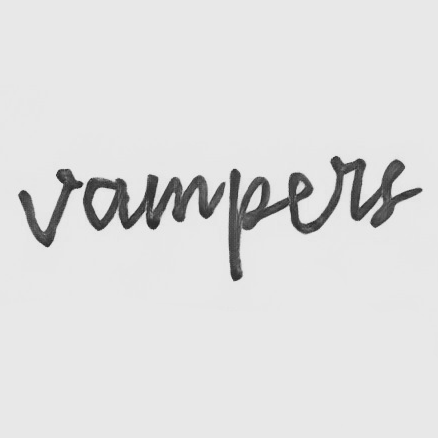a: (81, 173, 131, 233)
e: (282, 170, 325, 237)
m: (142, 170, 212, 231)
p: (223, 165, 275, 283)
r: (327, 152, 367, 225)
s: (369, 156, 415, 229)
v: (16, 167, 77, 249)
